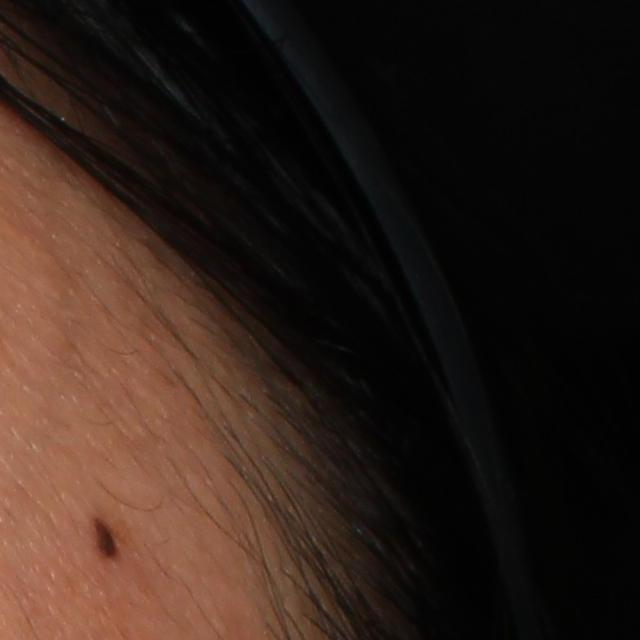nevus: (93, 514, 123, 562)
